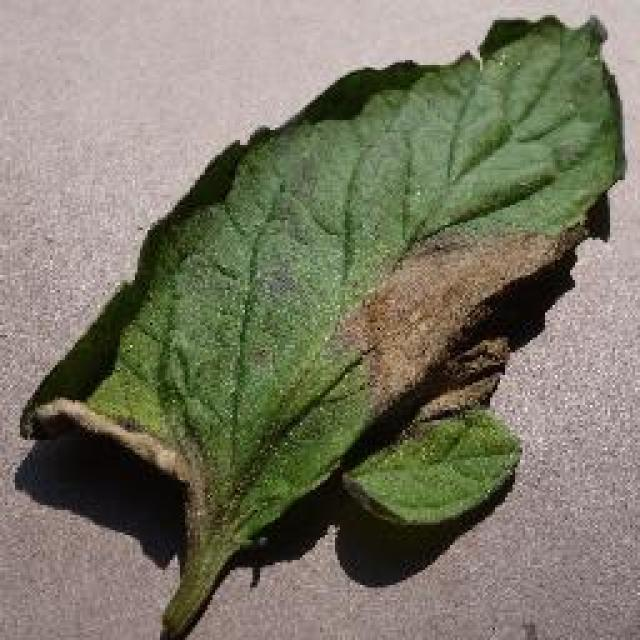Tomato_Late_Blight: (344, 220, 583, 418), (19, 376, 249, 526)
